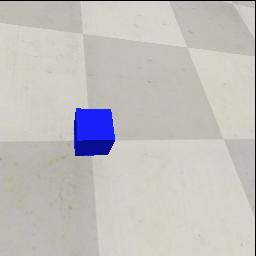box: (74, 108, 115, 156)
